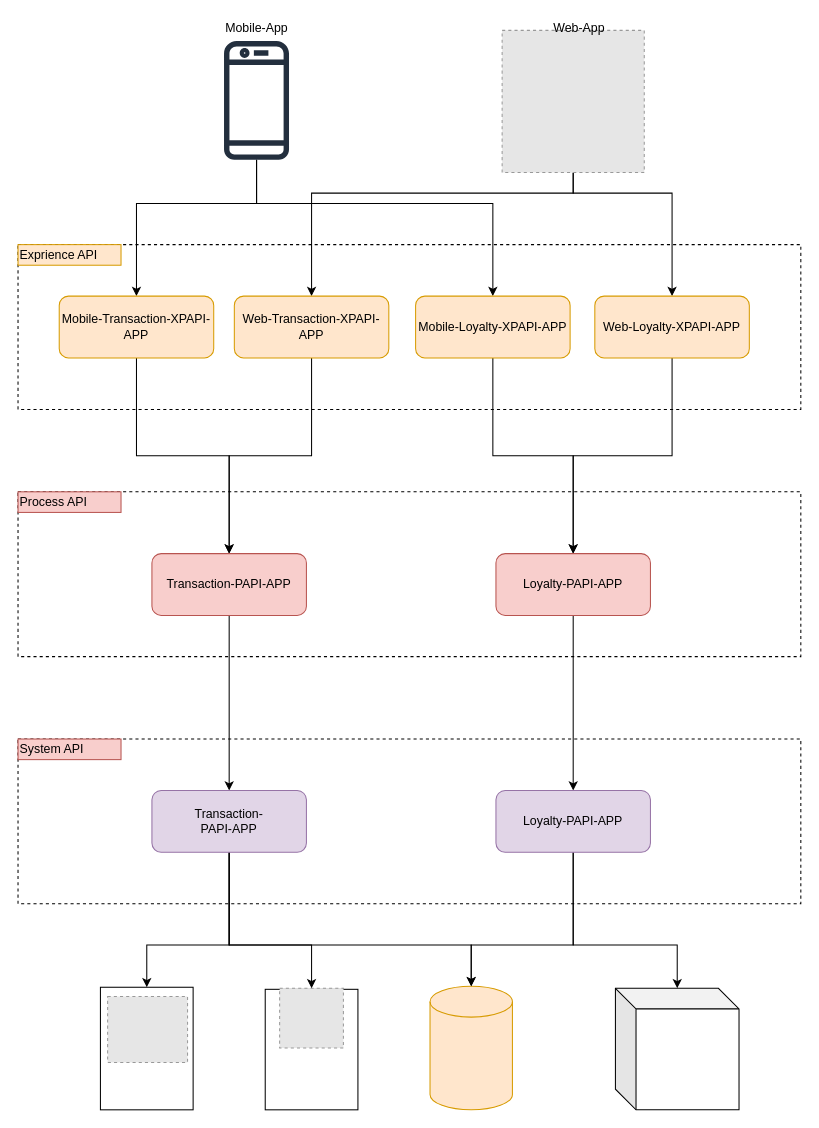
Some shapes in this 819 by 1128 pixel diagram are drawn without their labels. Grey dashed boxes stand in for pictures. Here are the shapes that lost their labels. From the top down, the box of each, then its label:
(99, 986, 193, 1110): SFDC
(264, 988, 358, 1110): Loyalty 3rd Party API (KGLM System)
(429, 985, 512, 1110): MySQL DB
(614, 987, 739, 1110): Object Store
